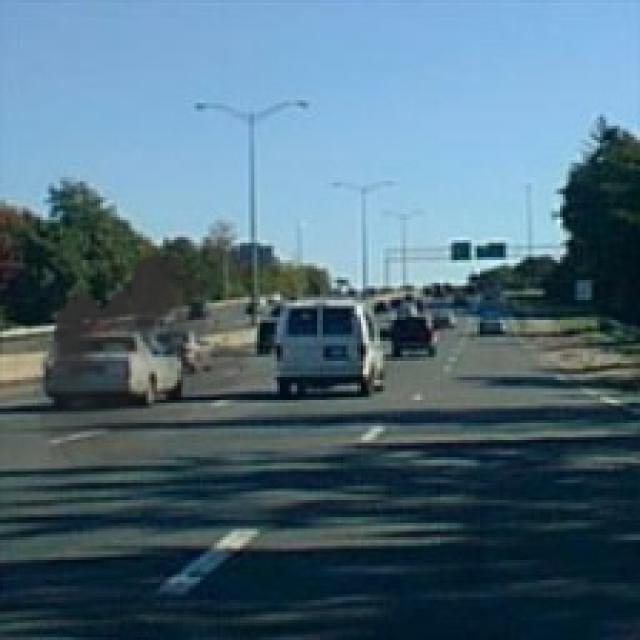smoke: (35, 243, 252, 477)
